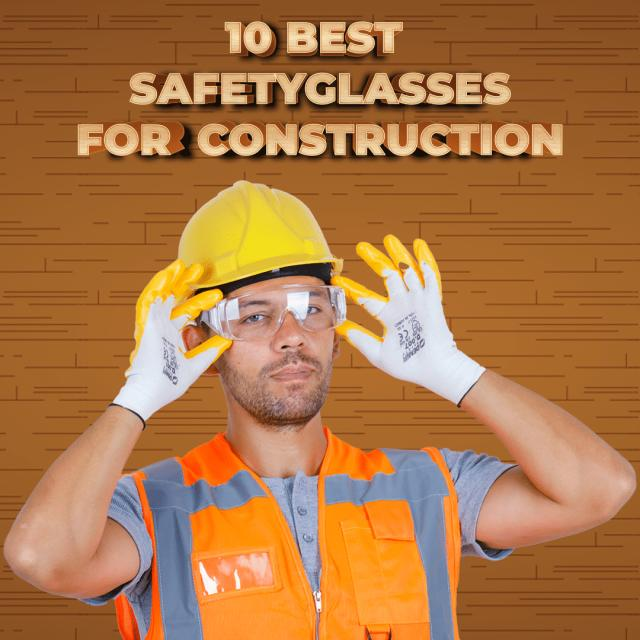goggles: (188, 282, 350, 345)
helmet: (151, 178, 353, 296)
vest: (104, 418, 473, 638)
